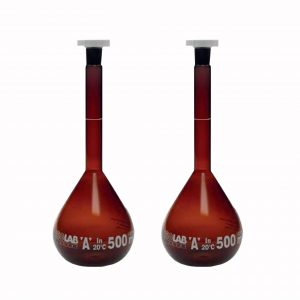glass_bottle: (157, 39, 246, 270), (52, 37, 136, 270)
